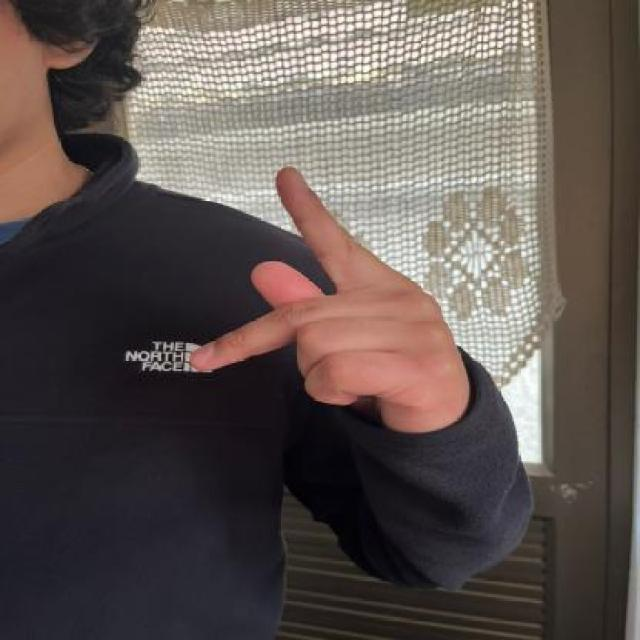K: (186, 160, 474, 443)
